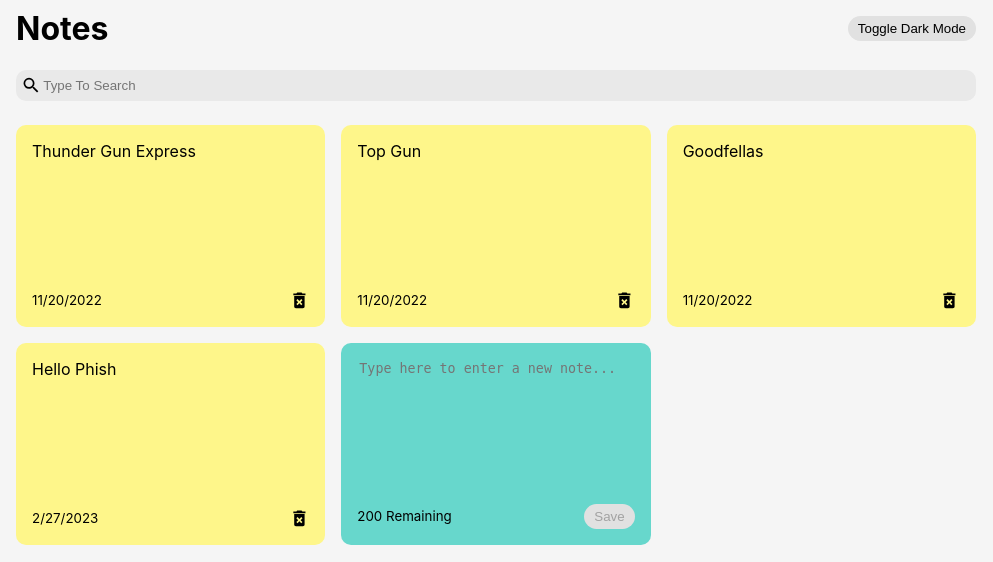
Scenario: should show 198 remaining
The image size is (993, 562).
Type "Yo" into the text box with placeholder "Type here to enter a new note..." at (496, 421), box [357,359,635,483]
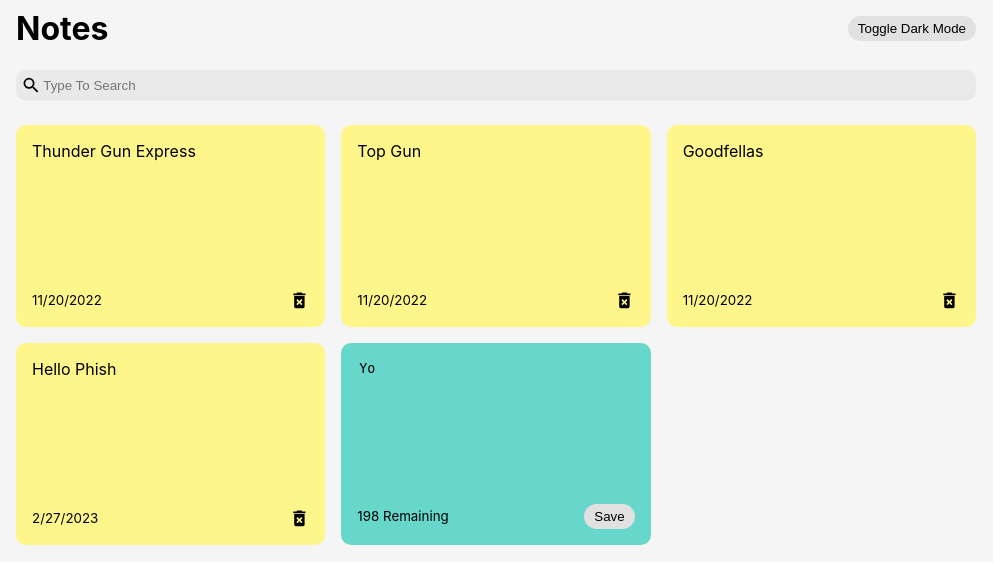
Expected: the text "198 Remaining" is shown, [357,508,449,524]
